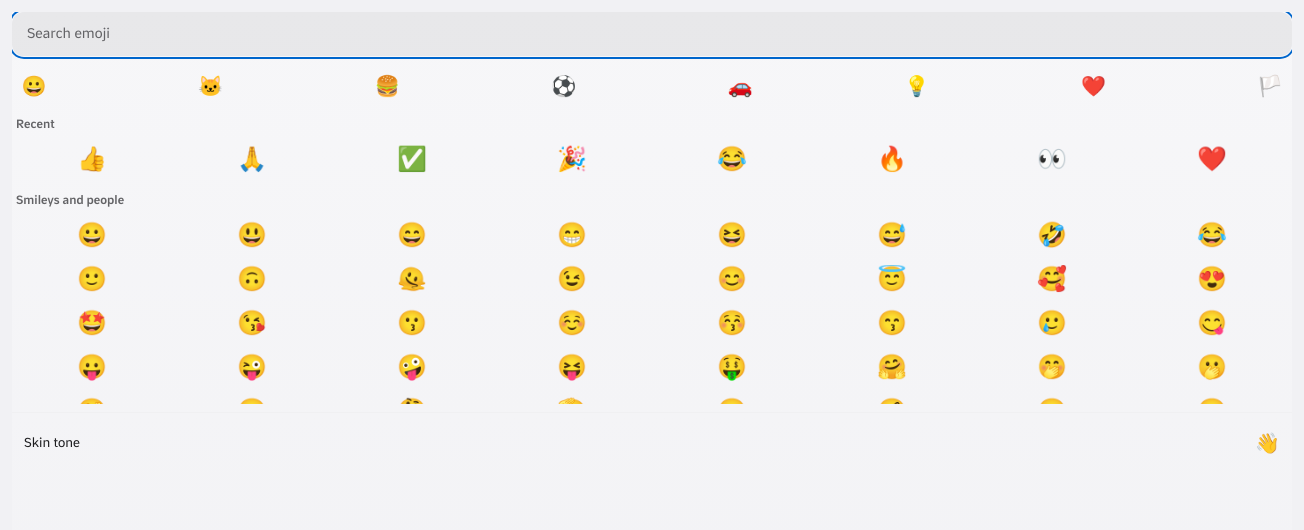
Test case: the emoji panel › the tone changes 👋 to 👋🏽 and is kept on the device
The image size is (1304, 530).
Click the button "Skin tone 👋". click: (52, 442)
box: x1=12 y1=421 x2=1292 y2=465
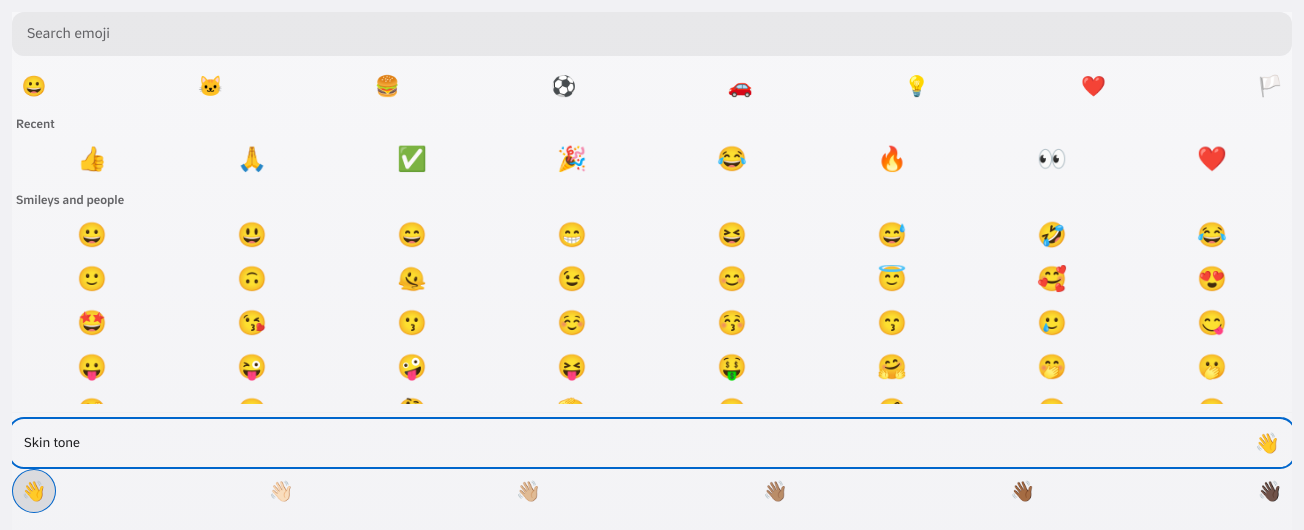
Click the radio button named "Medium". click: (776, 491)
box: x1=754 y1=469 x2=798 y2=513
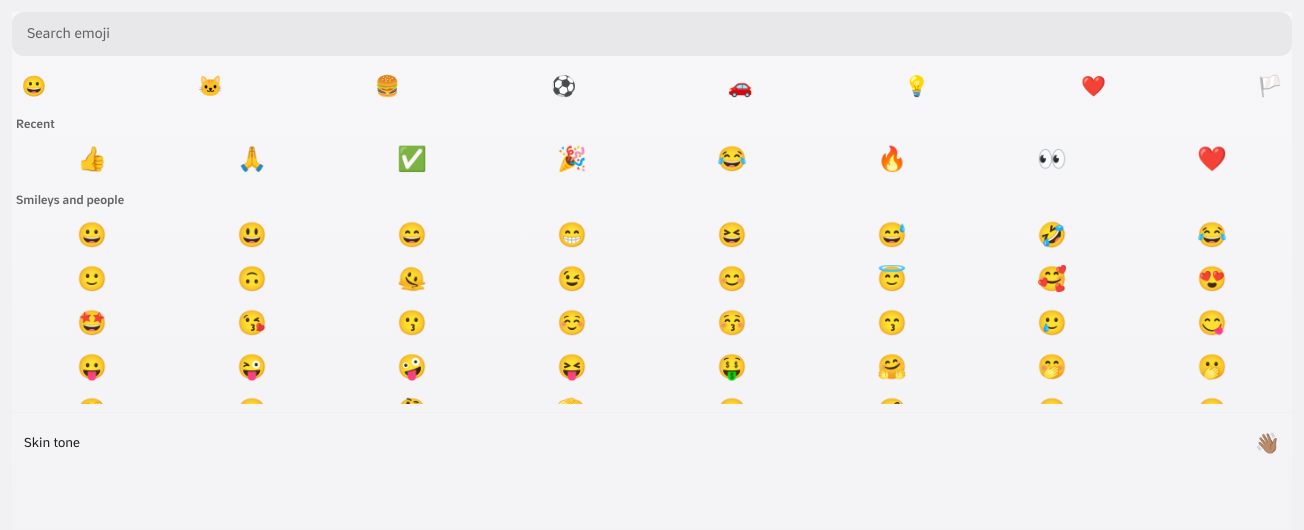
Click the button "Skin tone 👋🏽". click: (52, 442)
box: x1=12 y1=421 x2=1292 y2=465
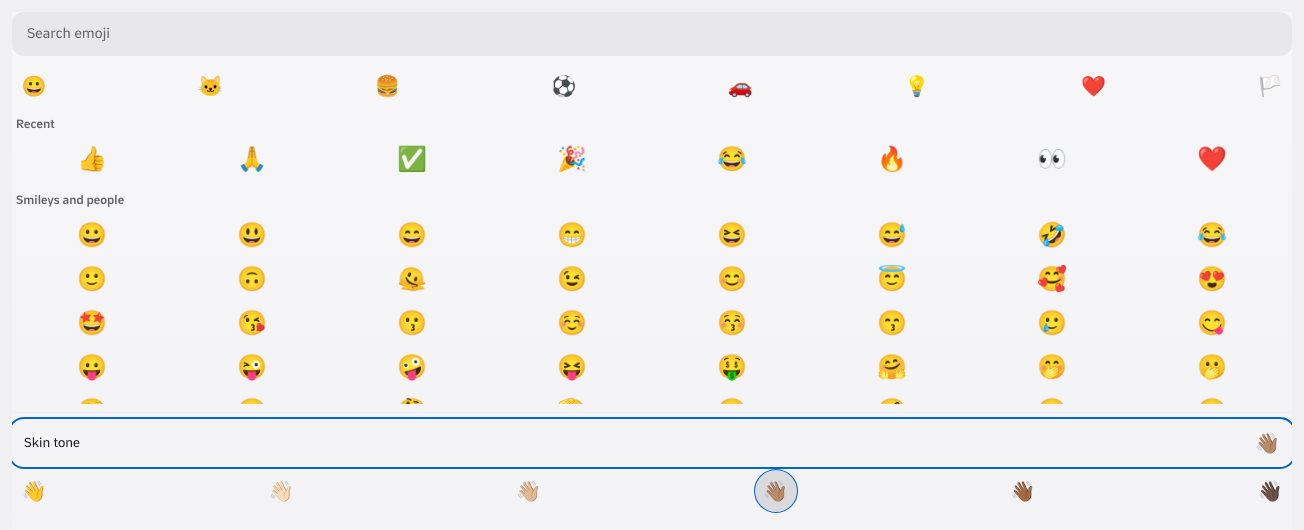
Now the radio button named "Medium" is checked, box x1=754 y1=469 x2=798 y2=513
Click the button "Skin tone 👋🏽". click: (52, 442)
box: x1=12 y1=421 x2=1292 y2=465
(page scrolled)
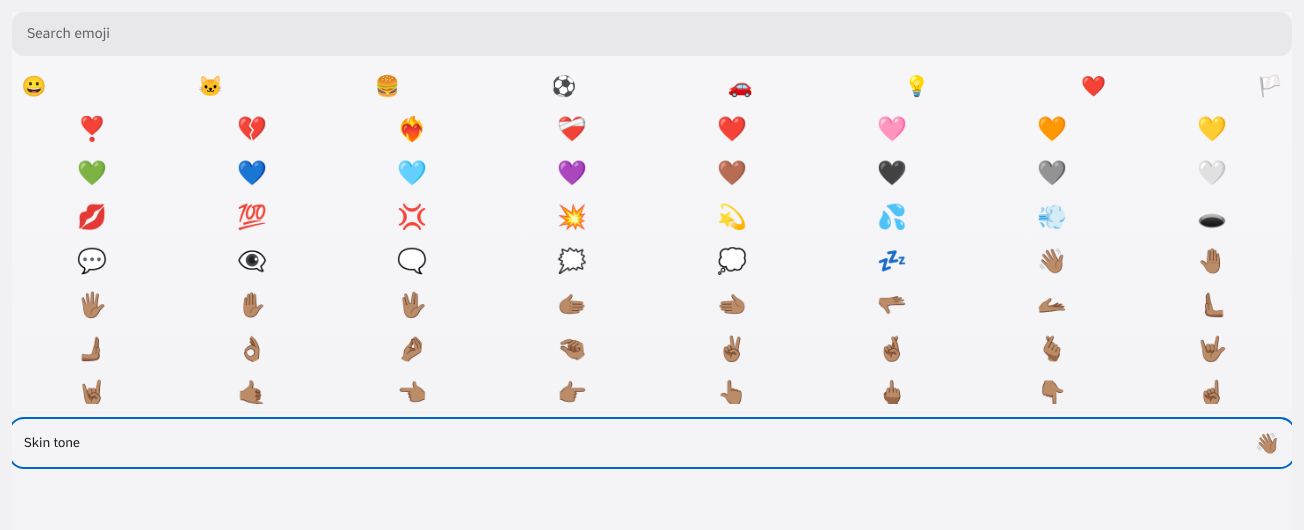
Now the button named "waving hand" reads "👋🏽"
Click the button named "waving hand". click: (1052, 260)
box: x1=972 y1=238 x2=1132 y2=282
(page scrolled)
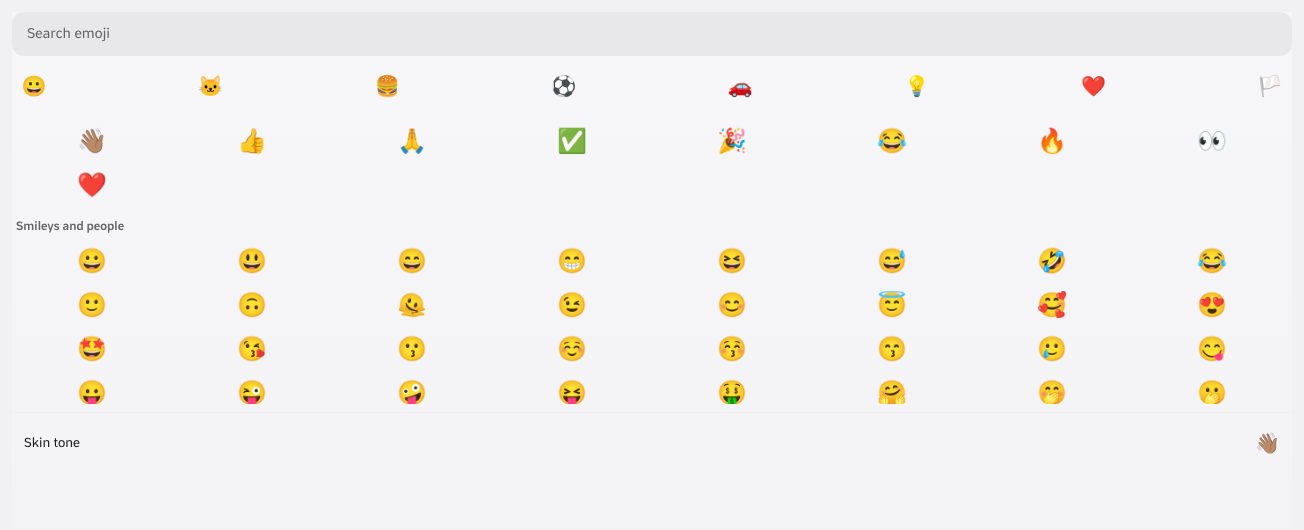
Now the button named "grinning face" reads "😀", box x1=12 y1=238 x2=172 y2=282
